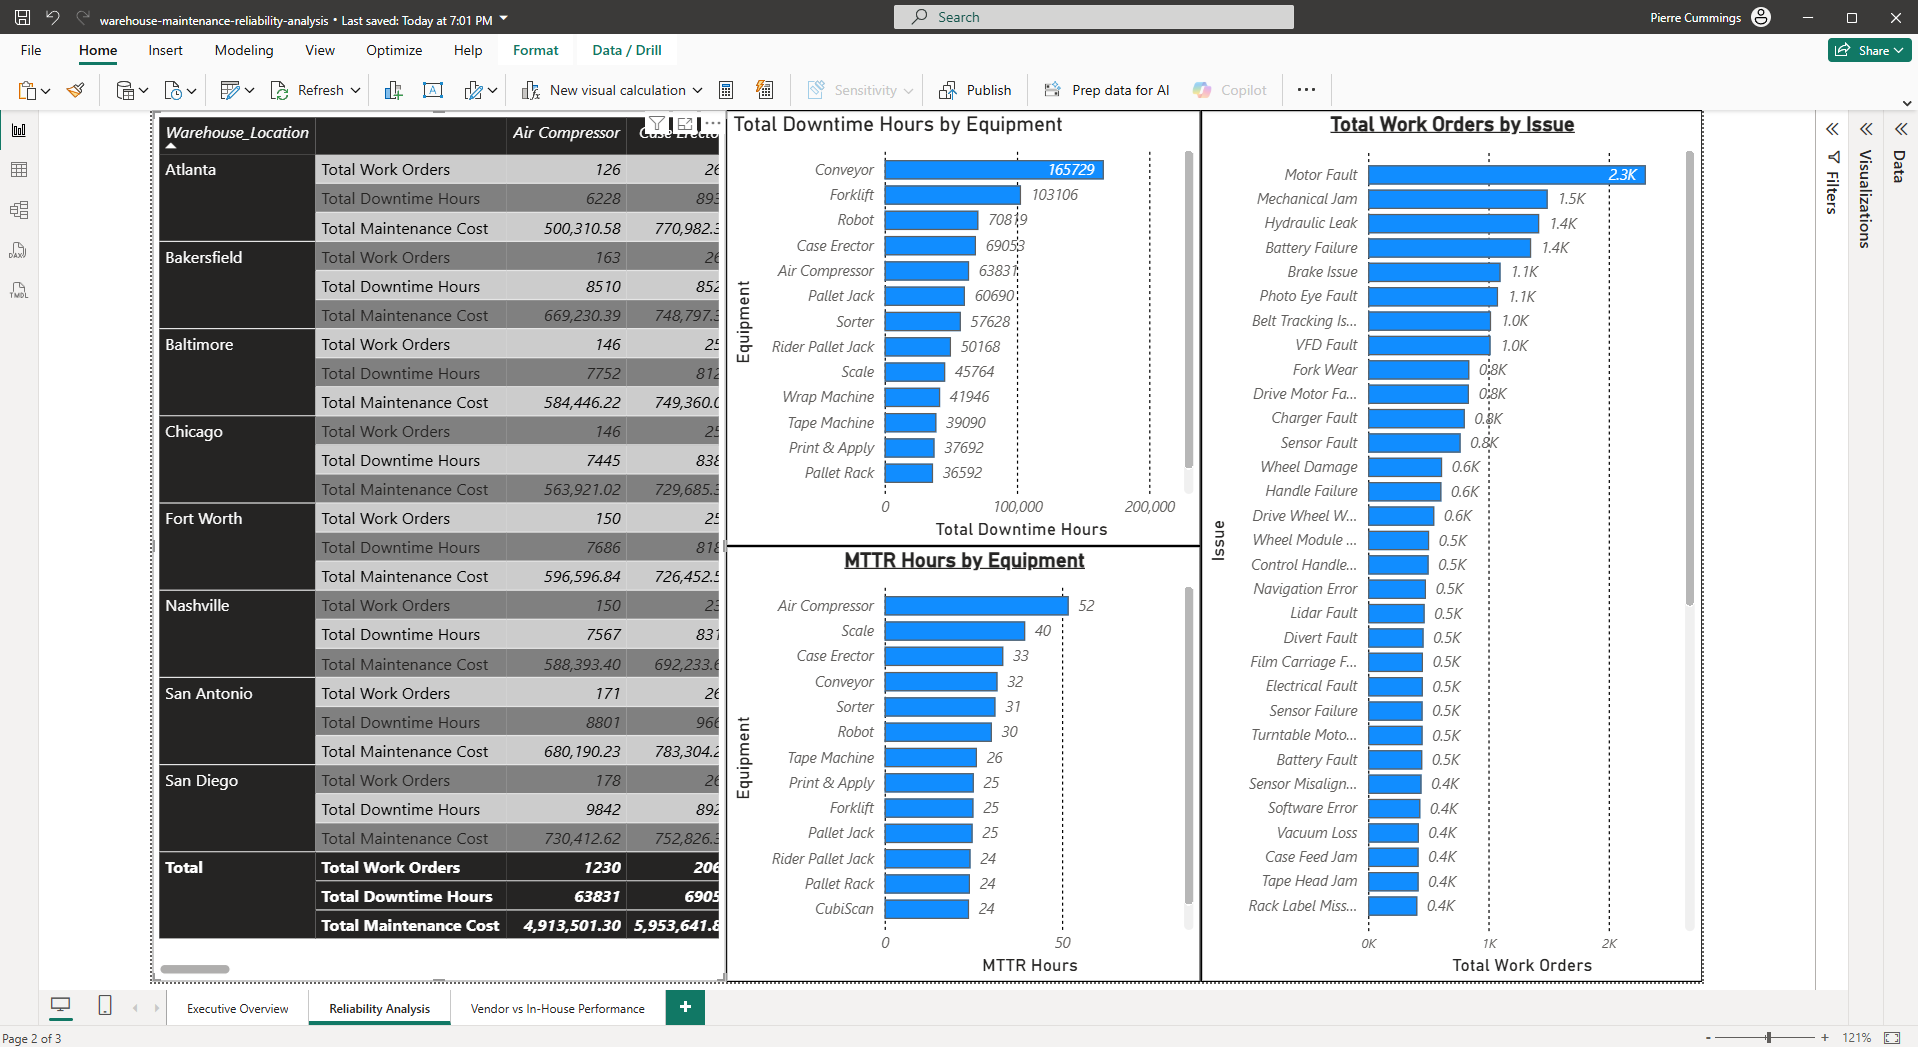

Layout of this report page (visuals, bound fields, positions):
{"tool":"powerbi","page":{"name":"Reliability Analysis","canvas":[1280,720],"ordinal":1},"visuals":[{"type":"clusteredBarChart","fields":{"Category":["warehouse_operations_dataset_v2.Equipment"],"Y":["warehouse_operations_dataset_v2.Total Downtime Hours"]},"box":[473.9,0,392.2,360],"z":0},{"type":"clusteredBarChart","fields":{"Category":["warehouse_operations_dataset_v2.Equipment"],"Y":["warehouse_operations_dataset_v2.MTTR Hours"]},"box":[473.9,360,392.2,360],"z":1000},{"type":"clusteredBarChart","fields":{"Category":["warehouse_operations_dataset_v2.Issue"],"Y":["warehouse_operations_dataset_v2.Total Work Orders"]},"box":[866.1,0,413.7,720],"z":2000},{"type":"pivotTable","fields":{"Rows":["warehouse_operations_dataset_v2.Warehouse_Location"],"Columns":["warehouse_operations_dataset_v2.Equipment"],"Values":["warehouse_operations_dataset_v2.Total Work Orders","warehouse_operations_dataset_v2.Total Downtime Hours","warehouse_operations_dataset_v2.Total Maintenance Cost"]},"box":[0,0,473.9,720],"z":3000}]}

Visuals, with their boxes on the page's 1280x720 design canvas (x1, y1, x2, y2). These are canvas units, not pixel positions in the 1918x1047 screenshot, which may show the page scaled, cropped or inside an application window:
clusteredBarChart - warehouse_operations_dataset_v2.Equipment x warehouse_operations_dataset_v2.Total Downtime Hours: Rect(474, 0, 866, 360)
clusteredBarChart - warehouse_operations_dataset_v2.Equipment x warehouse_operations_dataset_v2.MTTR Hours: Rect(474, 360, 866, 720)
clusteredBarChart - warehouse_operations_dataset_v2.Issue x warehouse_operations_dataset_v2.Total Work Orders: Rect(866, 0, 1280, 720)
pivotTable - warehouse_operations_dataset_v2.Warehouse_Location x warehouse_operations_dataset_v2.Equipment: Rect(0, 0, 474, 720)
